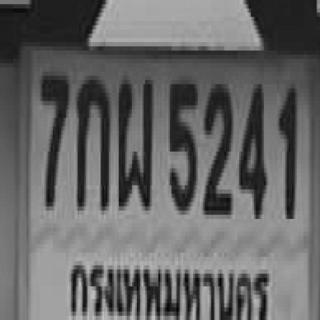A01: (76, 72, 109, 206)
A28: (115, 74, 152, 204)
N01: (277, 82, 295, 212)
N02: (201, 78, 231, 208)
N04: (238, 78, 266, 213)
N05: (168, 74, 196, 208)
N07: (40, 69, 68, 204)
P04: (66, 252, 270, 320)
